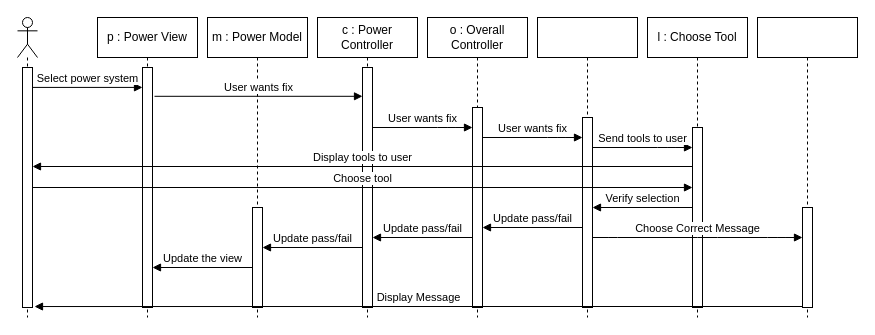
Some shapes in this 875 by 335 pixel diagram are drawn without their labels. Each missing label, with the box of its shape:
n : Tool Successful/Failure: (756, 16, 858, 318)
t : Tool Controller: (536, 16, 638, 318)
